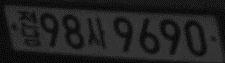0: (183, 18, 208, 56)
6: (138, 17, 160, 55)
8: (61, 12, 85, 48)
9: (112, 15, 135, 53), (160, 18, 181, 54), (40, 11, 60, 47)
사: (86, 14, 107, 50)
전남_V: (16, 10, 40, 47)
